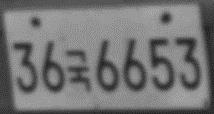3: (11, 41, 39, 93), (174, 36, 201, 89)
5: (148, 35, 175, 91)
6: (94, 38, 122, 92), (121, 37, 148, 90), (42, 40, 66, 92)
국: (63, 48, 92, 92)
